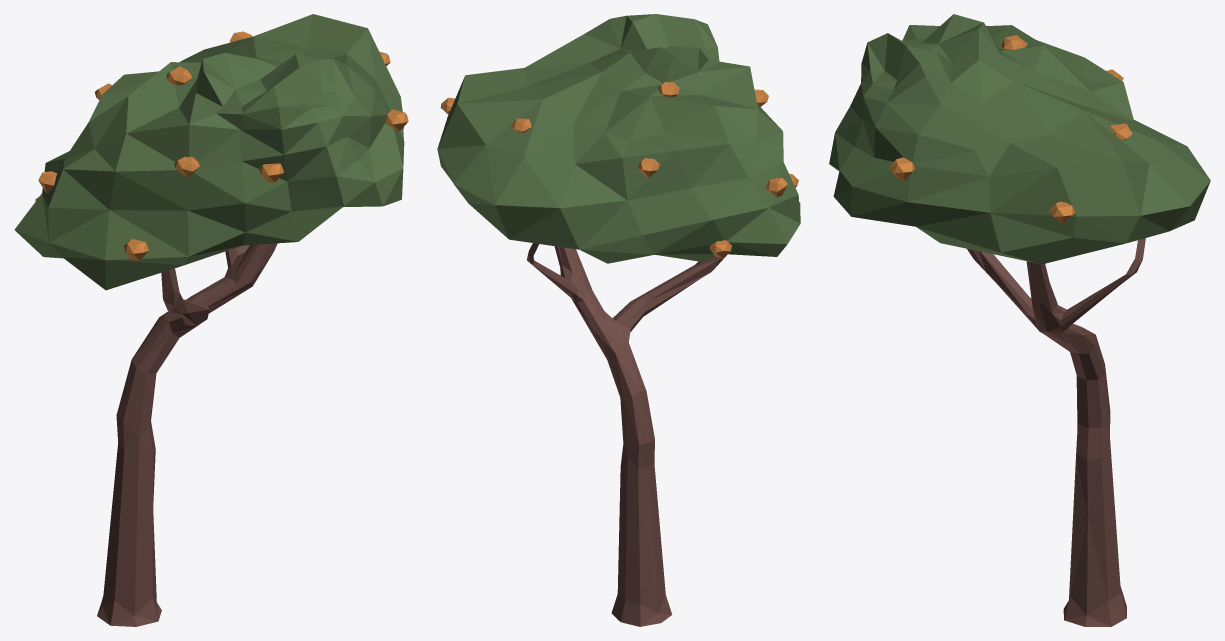
File: veg-citrico-b.glb
3 renders of one model, left to right at view 1: azimuth 30°, elevation 25°; view 2: azimuth 150°, elevation 25°; view 3: azimuth 270°, elevation 25°, orthographic. The views are drawn at different scales.
Visible parts, largest first — view 1: Orange_4; view 2: Orange_4; view 3: Orange_4.
Part boxes in pixels (box(x1,y1,x2,y2)): Orange_4: box(14, 14, 408, 626); Orange_4: box(437, 14, 800, 626); Orange_4: box(829, 14, 1210, 626).
Size of the model in its own units: 1.87 by 2.76 by 1.58.
